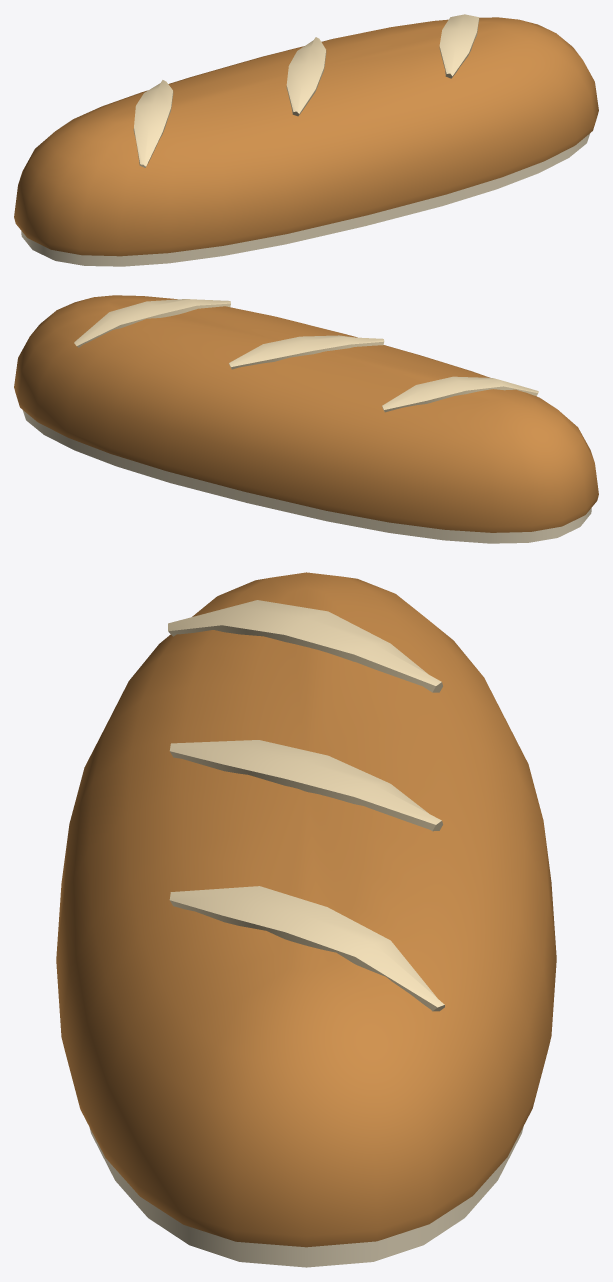
File: Food_Sourdough_Top.fbx
3 views of the same model, one above another, from view 1: azimuth 30°, elevation 25°; view 2: azimuth 150°, elevation 25°; view 3: azimuth 270°, elevation 25° (orthographic). The views are drawn at different scales.
Visible parts, largest first — view 1: Crust, Crumb, Scores; view 2: Crust, Scores, Crumb; view 3: Crust, Scores, Crumb.
Part boxes in pixels (box(x1,y1,x2,y2)): Crust: box(14, 17, 598, 256); Crumb: box(21, 133, 589, 266); Scores: box(133, 14, 479, 167); Crust: box(14, 295, 598, 532); Scores: box(74, 299, 538, 412); Crumb: box(22, 410, 591, 543); Crust: box(56, 572, 556, 1247); Scores: box(168, 600, 444, 1011); Crumb: box(89, 1126, 523, 1267).
Size of the model in its own units: 220 by 45.33 by 85.
